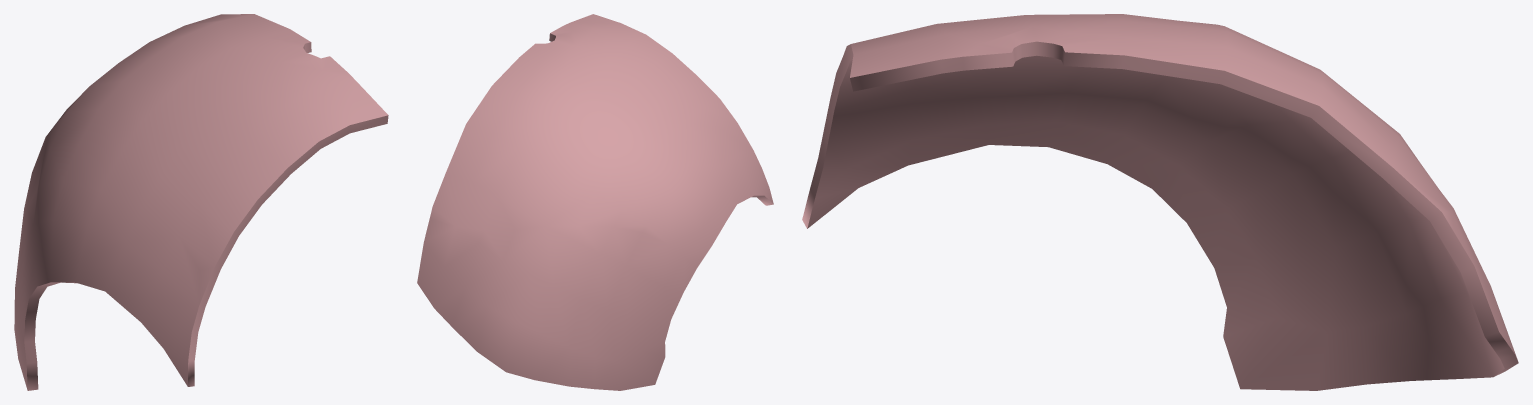
3 views of the same model, side by side, from view 1: azimuth 30°, elevation 25°; view 2: azimuth 150°, elevation 25°; view 3: azimuth 270°, elevation 25° (orthographic). The views are drawn at different scales.
Visible parts, largest first — view 1: ZA_87dc6e98b3d773e9; view 2: ZA_87dc6e98b3d773e9; view 3: ZA_87dc6e98b3d773e9.
Part boxes in pixels (left/top/right/bottom): ZA_87dc6e98b3d773e9: left=14, top=14, right=388, bottom=390; ZA_87dc6e98b3d773e9: left=417, top=14, right=773, bottom=390; ZA_87dc6e98b3d773e9: left=802, top=14, right=1518, bottom=390.
Bounding box in the file's own units: 0.0789 × 0.1052 × 0.1411.
